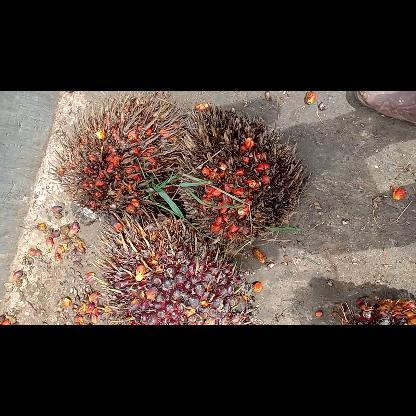TBS masak: (92, 210, 262, 324)
Terlalu masak: (159, 100, 311, 244), (44, 96, 181, 222)
